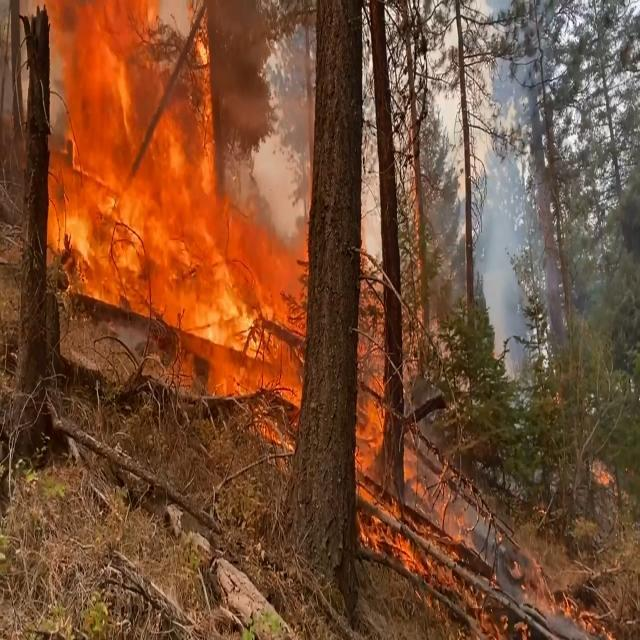Fire: (35, 0, 322, 390)
